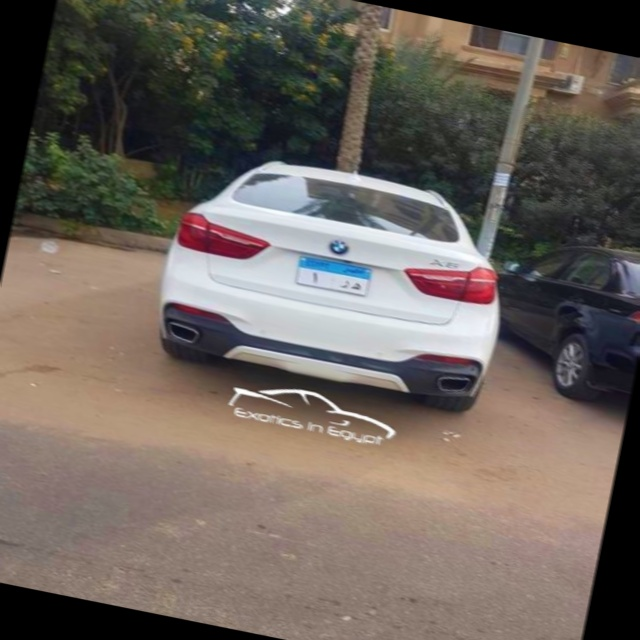License Plate: (294, 253, 374, 299)
